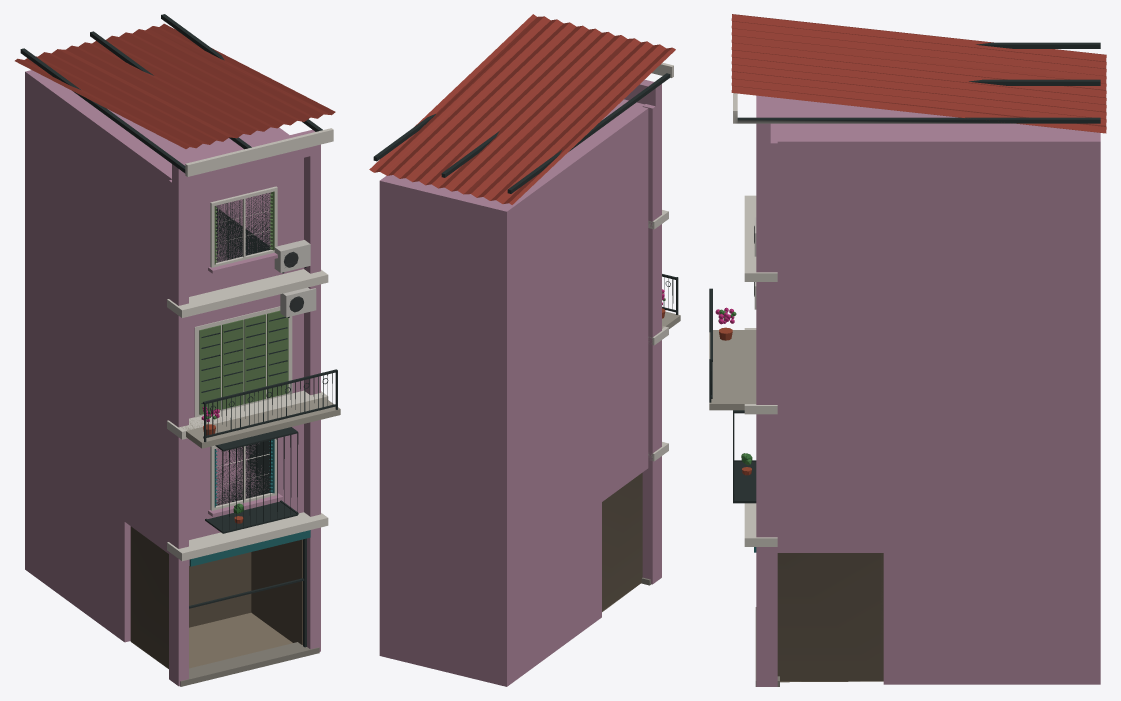
Rendered from nha_B.glb.
The picture shows the model from 3 angles, left to right: view 1: azimuth 30°, elevation 25°; view 2: azimuth 150°, elevation 25°; view 3: azimuth 270°, elevation 25°; orthographic projection. The views are drawn at different scales.
Parts seen in each view (by area): view 1: nha_B; view 2: nha_B; view 3: nha_B.
Part boxes in pixels (x1,y1,x2,y2): nha_B: (15, 14, 340, 686); nha_B: (369, 14, 680, 686); nha_B: (709, 14, 1106, 686).
Size of the model in its own units: 4 by 13.98 by 8.43.
